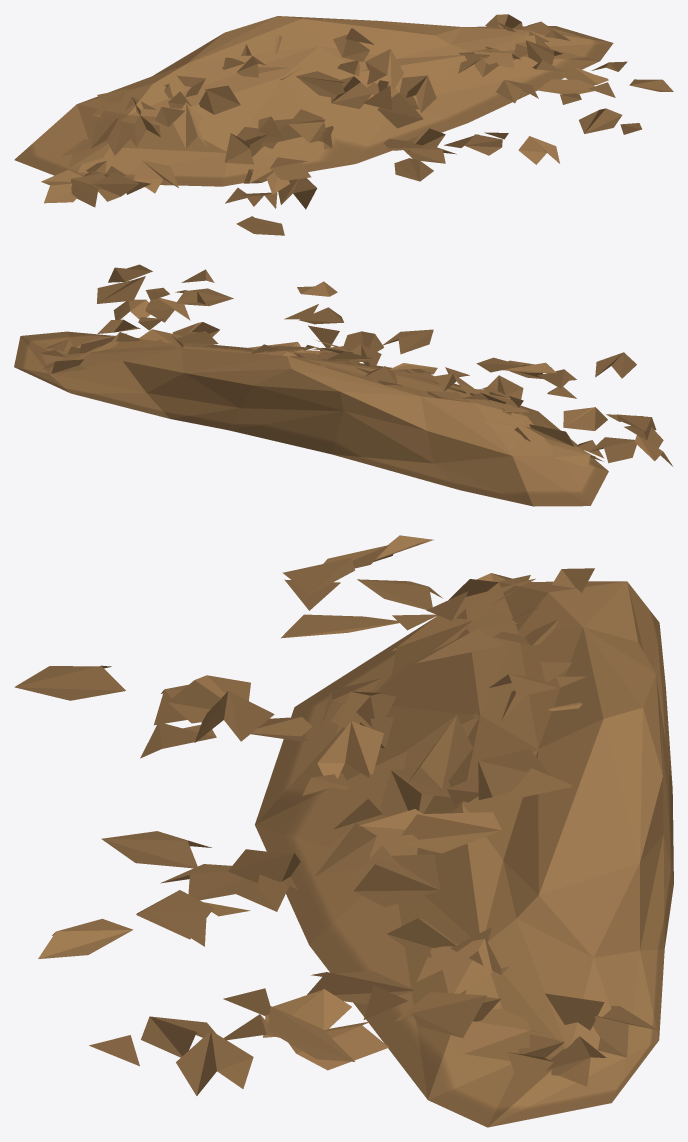
File: SM_Env_Leaves_Pile_02.fbx
The picture shows the model from 3 angles, top to bottom: view 1: azimuth 30°, elevation 25°; view 2: azimuth 150°, elevation 25°; view 3: azimuth 270°, elevation 25°; orthographic projection. The views are drawn at different scales.
Parts seen in each view (by area): view 1: SM_Env_Leaves_Pile_02; view 2: SM_Env_Leaves_Pile_02; view 3: SM_Env_Leaves_Pile_02.
Part boxes in pixels (left/top/right/bottom): SM_Env_Leaves_Pile_02: left=14, top=14, right=673, bottom=235; SM_Env_Leaves_Pile_02: left=14, top=264, right=672, bottom=506; SM_Env_Leaves_Pile_02: left=14, top=535, right=673, bottom=1127.
Size of the model in its own units: 232 by 28.46 by 114.
Materials: 1 (1 with a texture image).
